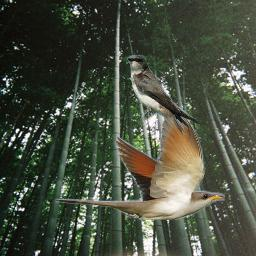Cuckoo: (55, 102, 225, 220)
Swallow: (127, 55, 200, 135)
